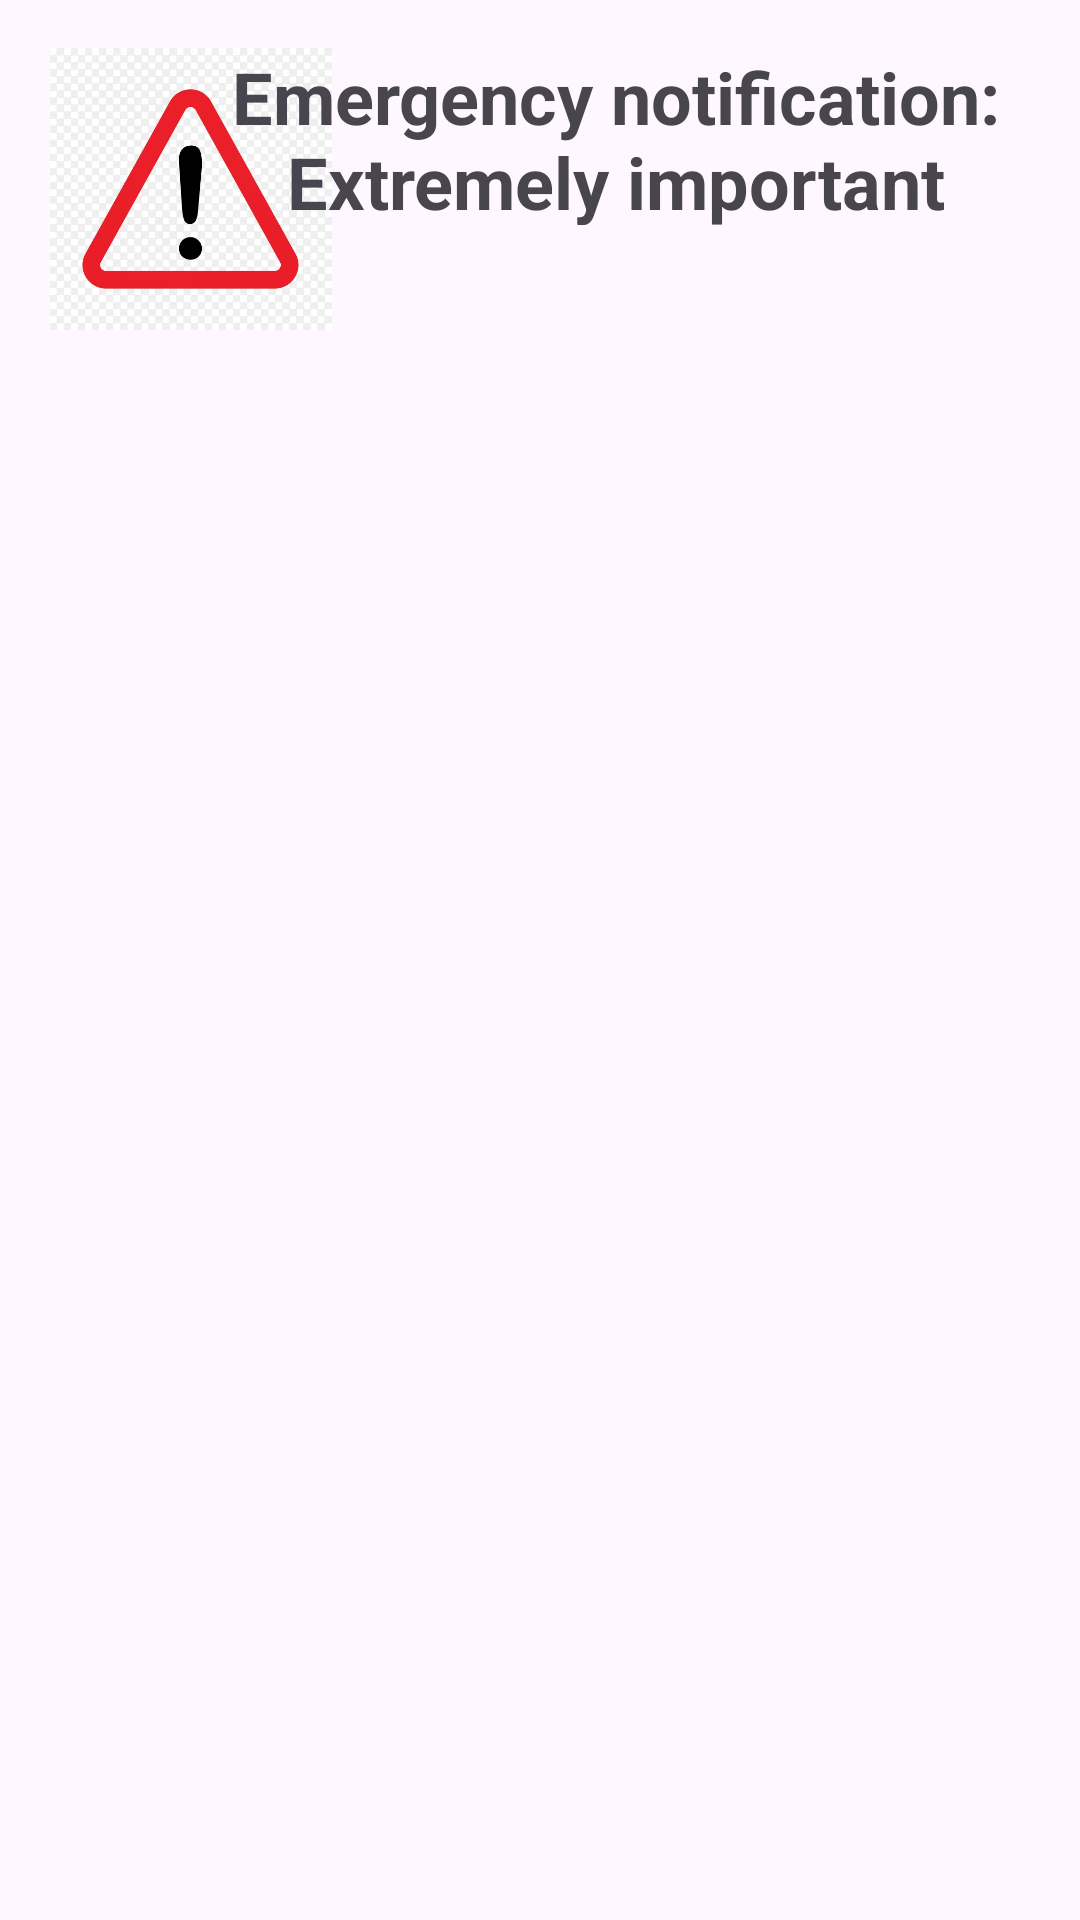

Screen size 1080px×1920px. Icon name, then its center in pixels as (x,y):
Warning!!!: (191,189)
